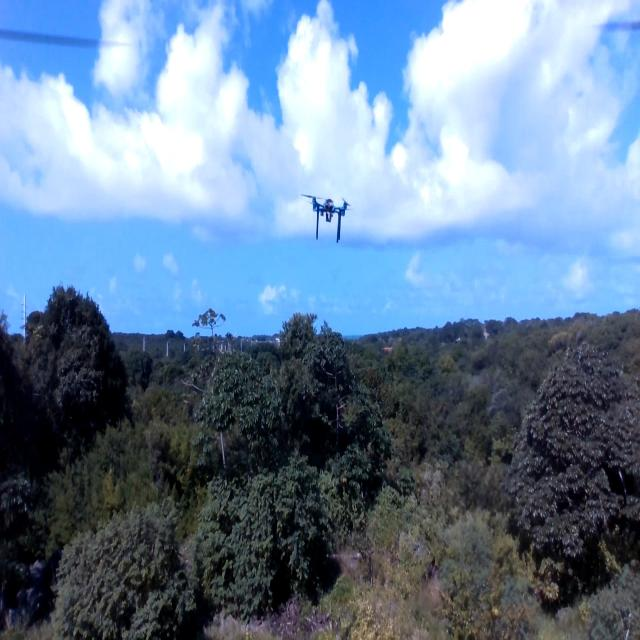-uav-: (297, 175, 363, 258)
